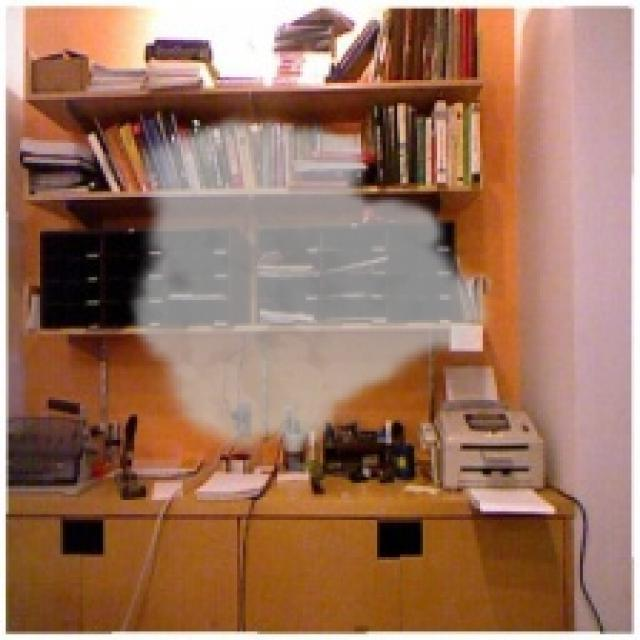Smoke: (126, 111, 500, 460)
